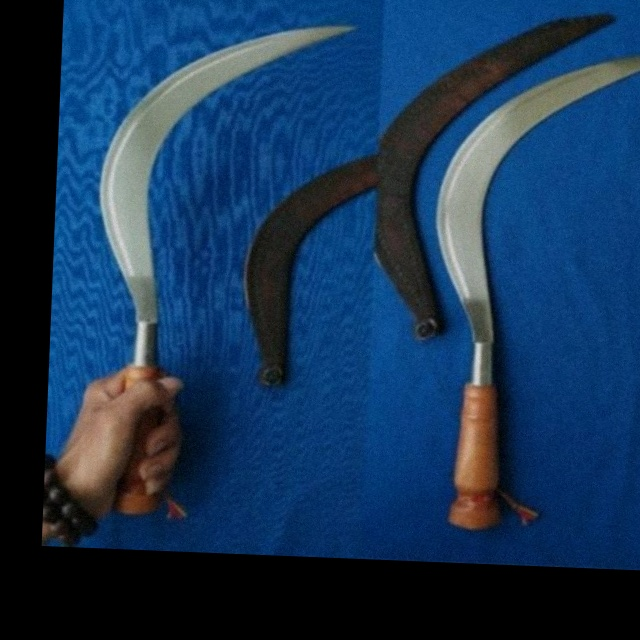Sharp-Object: (80, 1, 357, 545), (420, 50, 640, 548)
